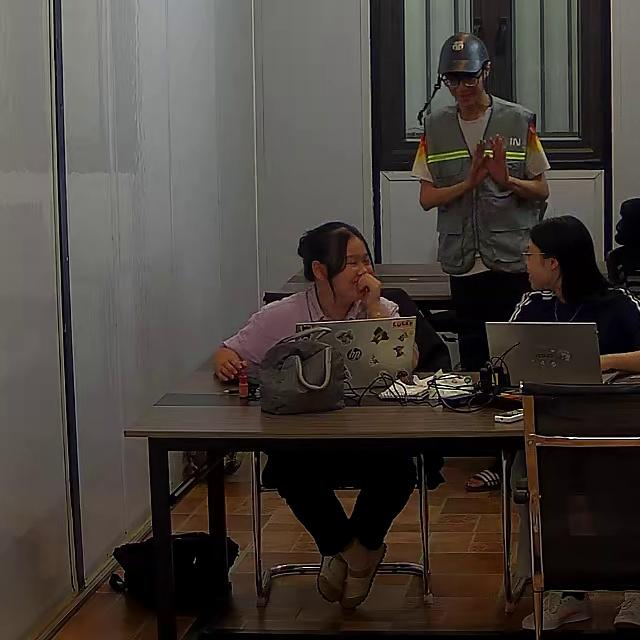helmet: (436, 32, 492, 76)
no_helmet: (525, 216, 614, 302), (297, 221, 370, 284)
none: (220, 284, 397, 378)
vest: (414, 99, 546, 272)
